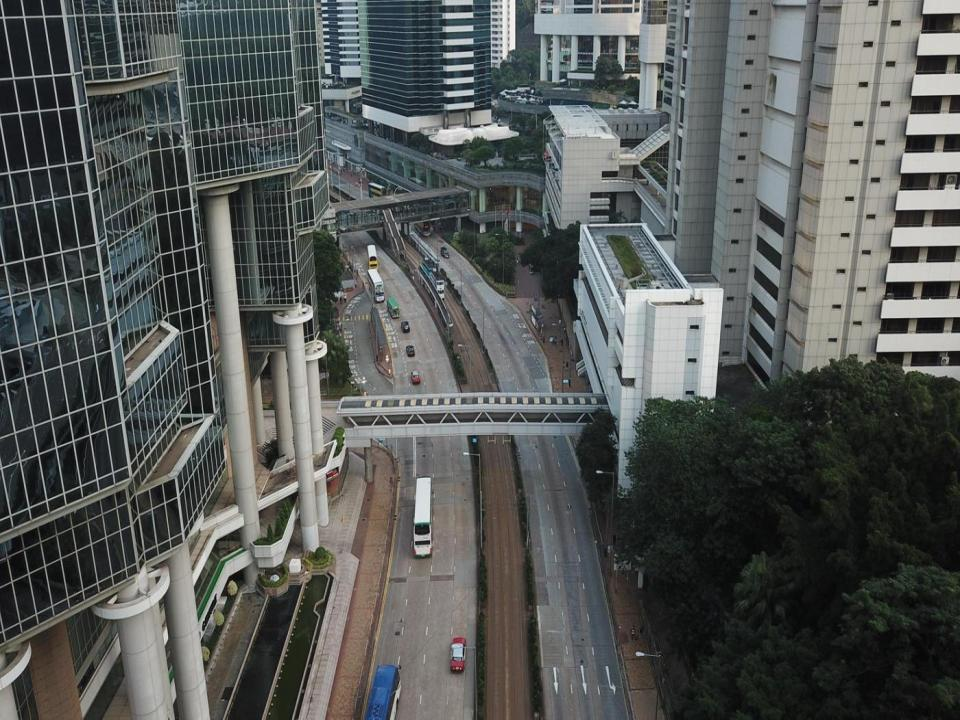bus: (361, 664, 402, 719), (412, 475, 434, 557), (366, 268, 385, 303), (368, 182, 388, 207), (421, 256, 436, 289), (430, 268, 445, 300), (412, 213, 431, 237), (365, 244, 378, 273)
car: (448, 636, 467, 672), (410, 370, 420, 385), (439, 245, 450, 258), (405, 344, 416, 356), (400, 320, 410, 332)
van: (386, 297, 401, 318)
